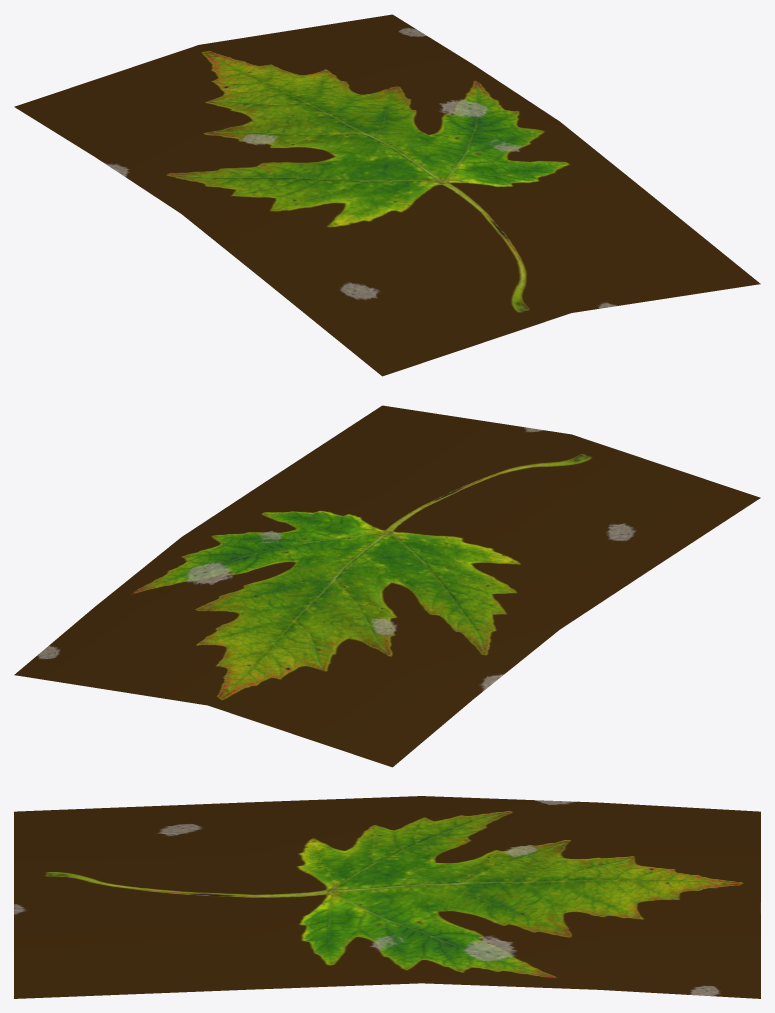
The model's file is green_maple_leaf_low-poly.fbx.
3 views of the same model, one above another, from view 1: azimuth 30°, elevation 25°; view 2: azimuth 150°, elevation 25°; view 3: azimuth 270°, elevation 25° (orthographic).
Parts seen in each view (by area): view 1: node_57d6245e_2fcc_41b5_bc79_bd14e832d184_mesh0; view 2: node_57d6245e_2fcc_41b5_bc79_bd14e832d184_mesh0; view 3: node_57d6245e_2fcc_41b5_bc79_bd14e832d184_mesh0.
Boxes of the visible parts, bbox=[...] form: node_57d6245e_2fcc_41b5_bc79_bd14e832d184_mesh0: bbox=[14, 14, 760, 376]; node_57d6245e_2fcc_41b5_bc79_bd14e832d184_mesh0: bbox=[14, 405, 760, 767]; node_57d6245e_2fcc_41b5_bc79_bd14e832d184_mesh0: bbox=[14, 796, 760, 998].
Bounding box in the file's own units: 4.08 × 0.3263 × 6.88.
1 material, 1 textured.
